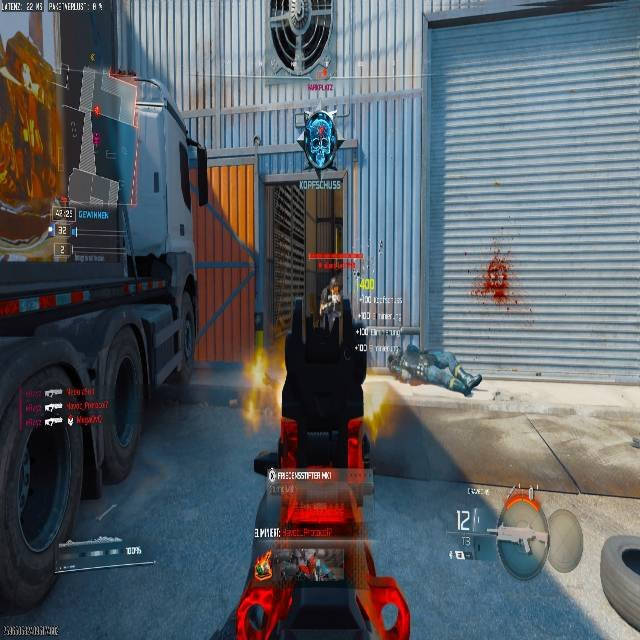head: (330, 277, 340, 290)
player: (297, 107, 341, 177), (319, 275, 342, 326)
